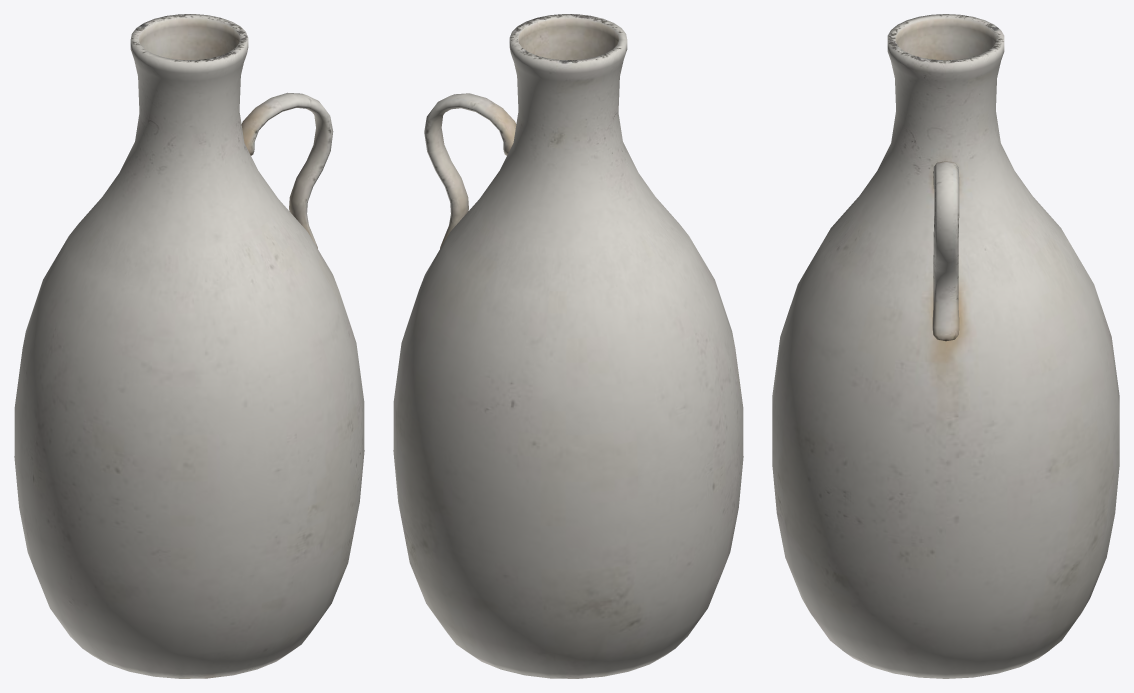
Rendered from ceramic_vase_04_1k.glb.
The picture shows the model from 3 angles, left to right: view 1: azimuth 30°, elevation 25°; view 2: azimuth 150°, elevation 25°; view 3: azimuth 270°, elevation 25°; orthographic projection.
Visible parts, largest first — view 1: ceramic_vase_04; view 2: ceramic_vase_04; view 3: ceramic_vase_04.
Boxes of the visible parts, box(x1,y1,x2,y2) form: ceramic_vase_04: box(14, 14, 364, 678); ceramic_vase_04: box(393, 14, 743, 678); ceramic_vase_04: box(772, 14, 1119, 678).
Bounding box in the file's own units: 0.1833 × 0.3423 × 0.182.
1 material, 1 textured.
